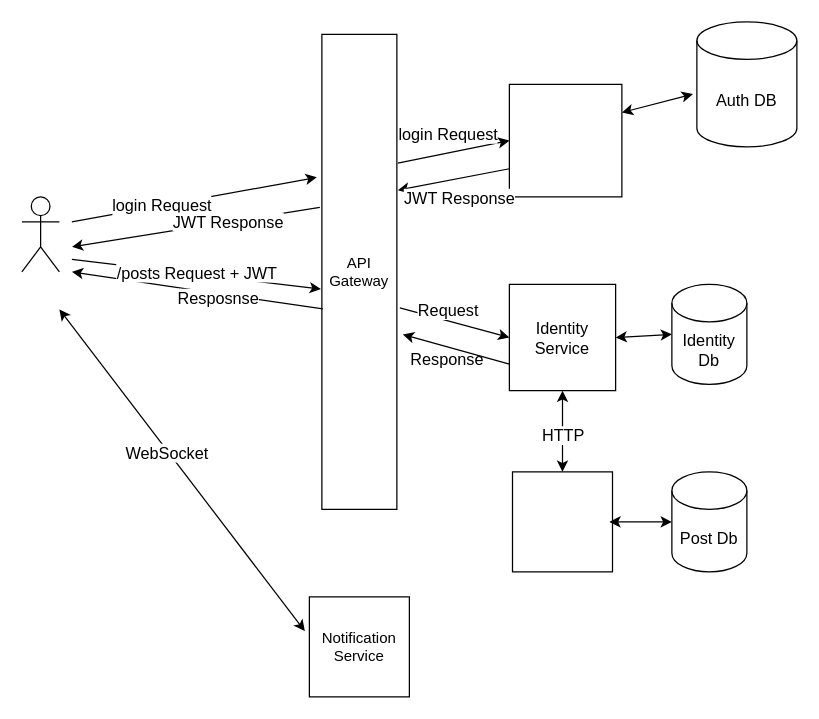
Some shapes in this 819 by 719 pixel diagram are drawn without their labels. The shapes that lost their labels are listed below. From the top down, each one's box as (x1, y1, x2, y2) in pixels, then its label:
(508, 83, 622, 197): Auth Service
(21, 196, 59, 272): Client
(511, 471, 612, 572): Post Service
